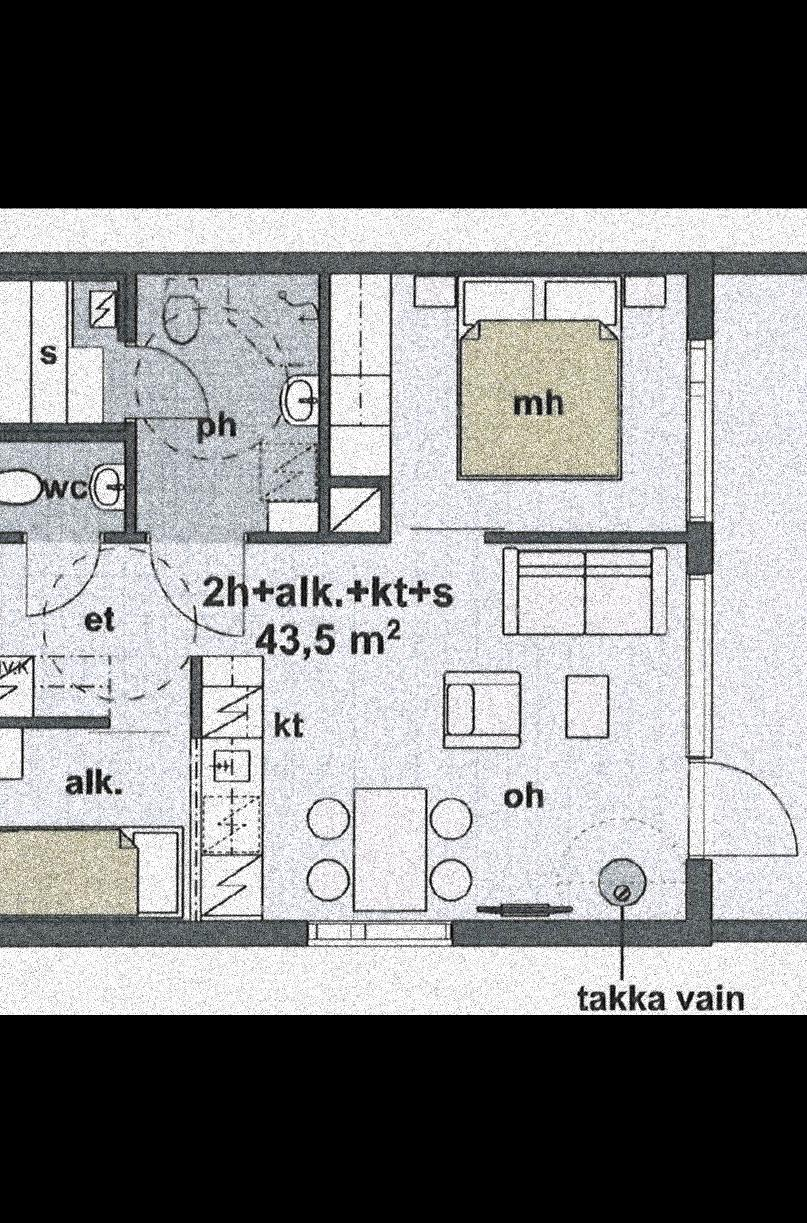window: (681, 755, 804, 863), (162, 533, 237, 660), (128, 330, 219, 434), (24, 534, 103, 633), (688, 337, 708, 522), (694, 578, 712, 757)
zone: (0, 286, 682, 922), (714, 276, 807, 918), (147, 278, 325, 533), (0, 283, 119, 427), (0, 444, 133, 535)
